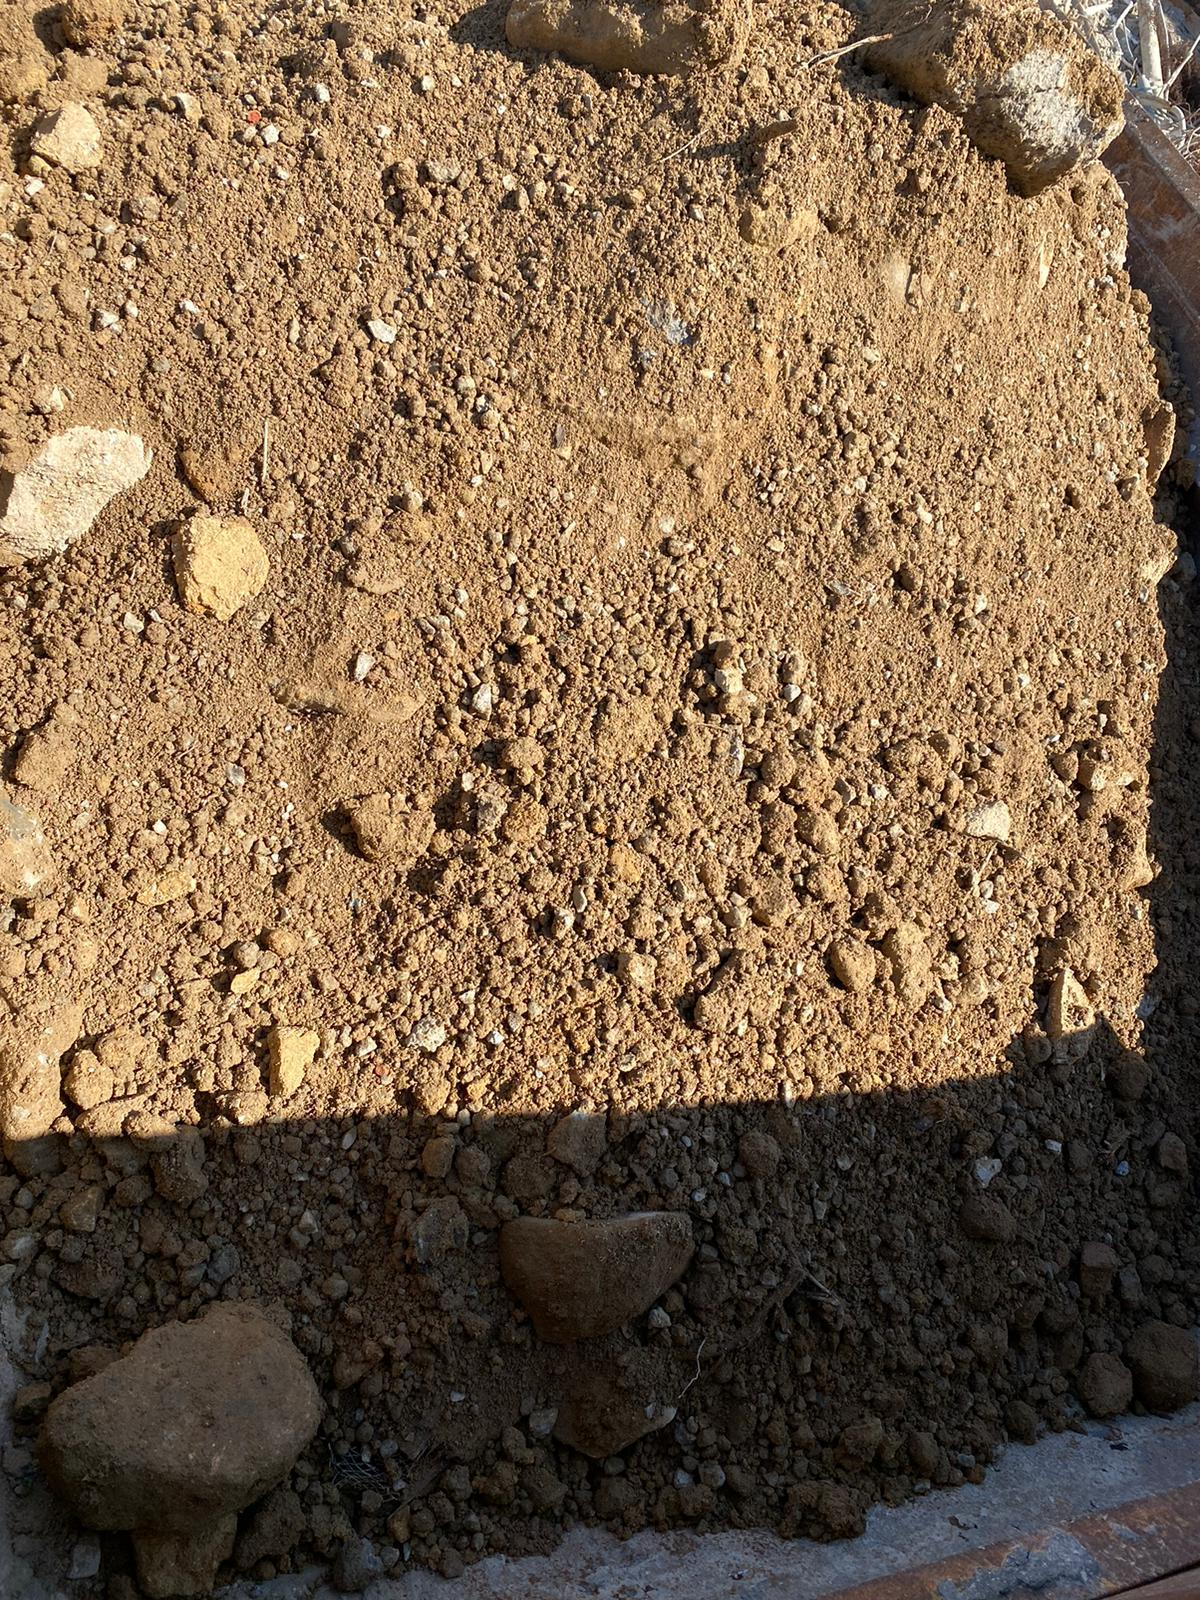dry: (10, 0, 1172, 1407)
